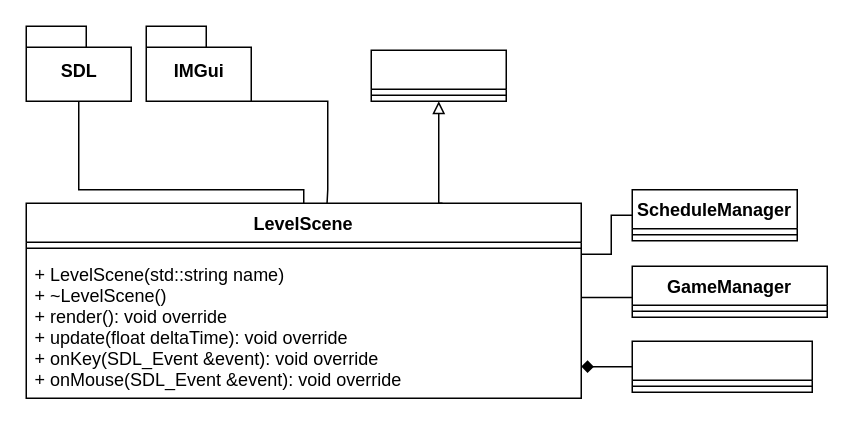
Image size: 854x429. Some labels were removed from this diagram. Here are the shapes that lost their labels. From the top down, the centre of each, then its label:
(438,75): Scene
(721,366): BulletPhysics
